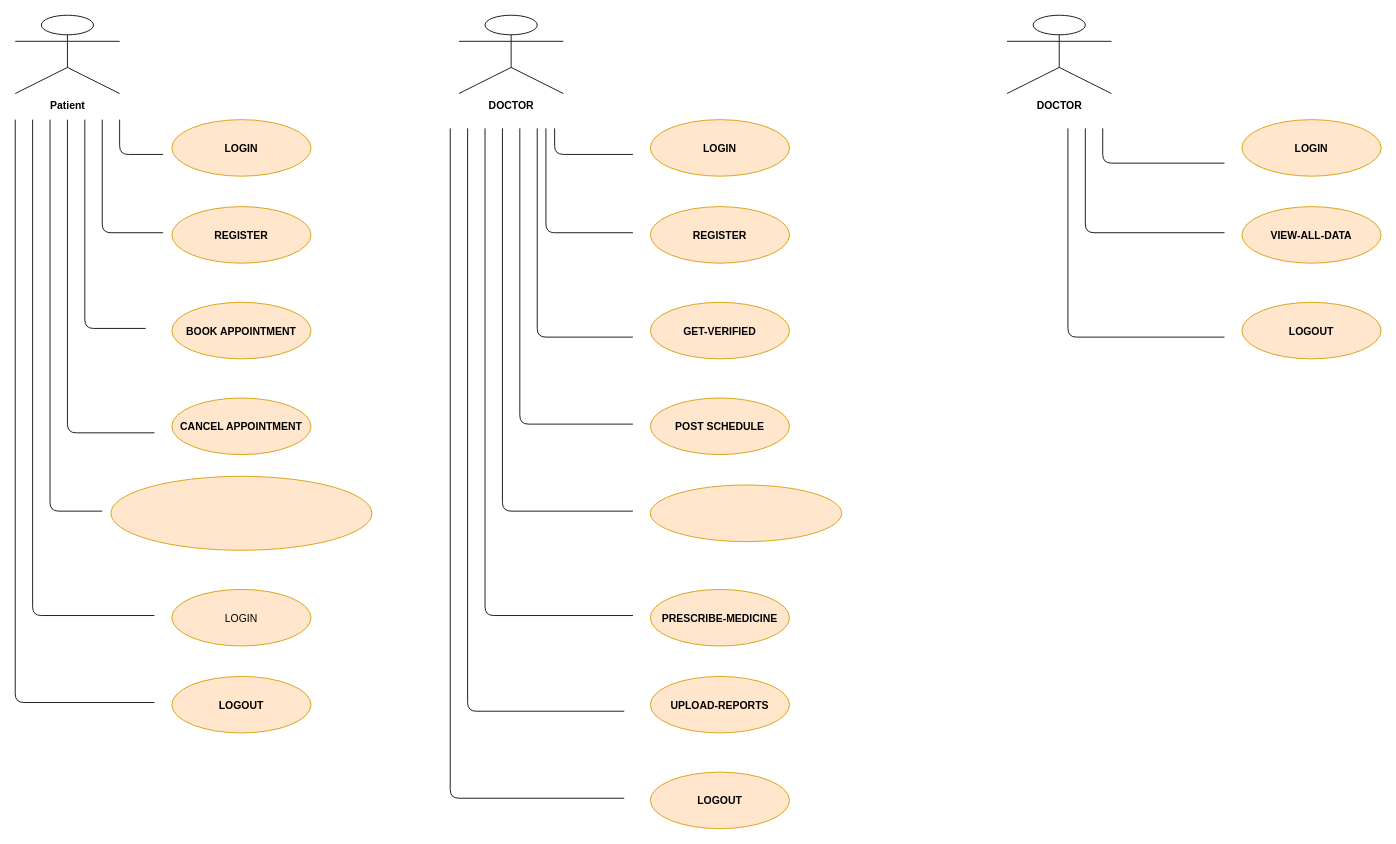
The diagram is 1396 pixels wide and 844 high, and some of its shapes have lost their labels. Here are the shapes that lost their labels. From the top down, the centre of each, then its label:
point 241,512: VIEW ENTIRE HISTORY OF MEDICAL RECORDS
point 745,513: RETRIEVE DATA FROM PATIENT
